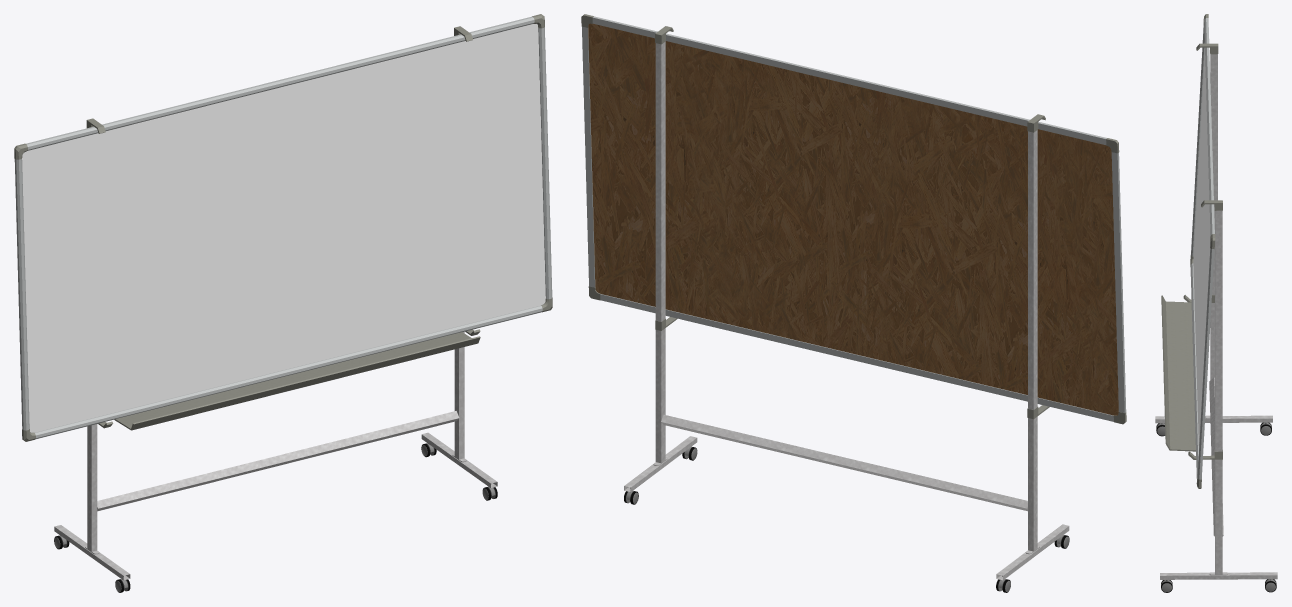
The model's file is whiteboard.fbx.
3 views of the same model, side by side, from view 1: azimuth 30°, elevation 25°; view 2: azimuth 150°, elevation 25°; view 3: azimuth 270°, elevation 25° (orthographic). The views are drawn at different scales.
Visible parts, largest first — view 1: white_board; view 2: white_board; view 3: white_board.
Part boxes in pixels (left/top/right/bottom): white_board: left=14, top=14, right=552, bottom=592; white_board: left=581, top=14, right=1126, bottom=592; white_board: left=1155, top=14, right=1277, bottom=592.
Size of the model in its own units: 393 by 317 by 90.23.
